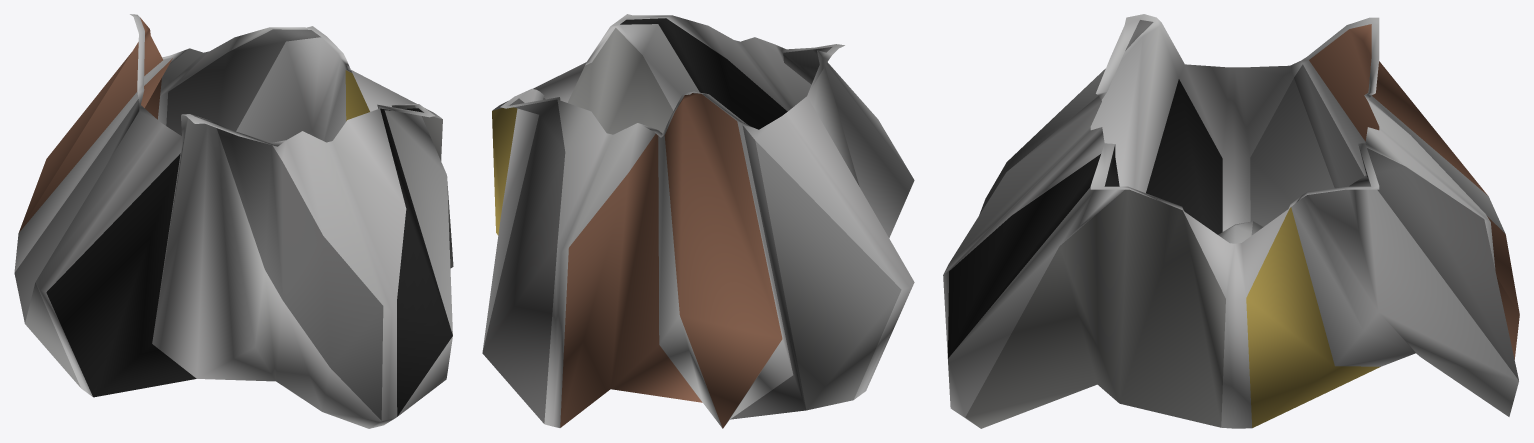
File: furnishings-trash-oldnewspaper_v10.glb
3 renders of one model, left to right at view 1: azimuth 30°, elevation 25°; view 2: azimuth 150°, elevation 25°; view 3: azimuth 270°, elevation 25°, orthographic. The views are drawn at different scales.
Parts seen in each view (by area): view 1: OldNewspaper_v10; view 2: OldNewspaper_v10; view 3: OldNewspaper_v10.
Boxes of the visible parts, x1,y1,x2,y2 form: OldNewspaper_v10: [14, 14, 453, 428]; OldNewspaper_v10: [482, 14, 914, 428]; OldNewspaper_v10: [943, 14, 1519, 428].
Bounding box in the file's own units: 0.0095 × 0.00702 × 0.0101.
